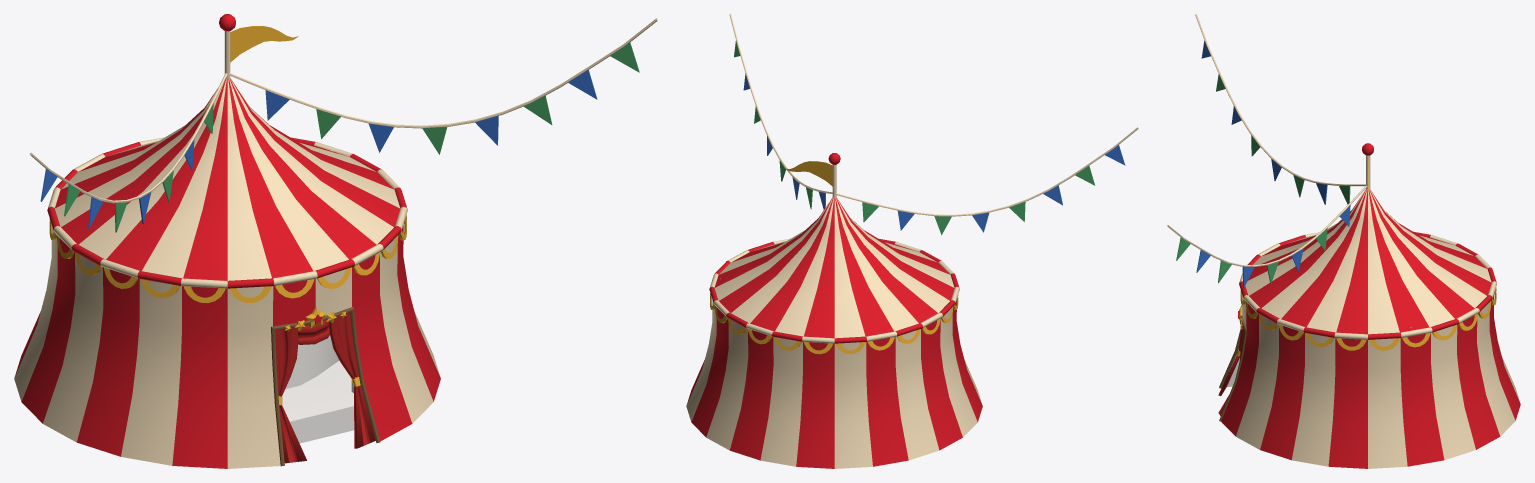
Rendered from Circus_Tent_00.FBX.
The picture shows the model from 3 angles, left to right: view 1: azimuth 30°, elevation 25°; view 2: azimuth 150°, elevation 25°; view 3: azimuth 270°, elevation 25°; orthographic projection. The views are drawn at different scales.
Visible parts, largest first — view 1: Circus_Tent_00, Circus_Tent_Garland_B_00, Circus_Tent_Garland_A_00; view 2: Circus_Tent_00, Circus_Tent_Garland_A_00, Circus_Tent_Garland_B_00; view 3: Circus_Tent_00, Circus_Tent_Garland_B_00, Circus_Tent_Garland_A_00.
Boxes of the visible parts, bbox=[...] form: Circus_Tent_00: bbox=[14, 14, 440, 468]; Circus_Tent_Garland_B_00: bbox=[229, 18, 657, 154]; Circus_Tent_Garland_A_00: bbox=[29, 73, 227, 232]; Circus_Tent_00: bbox=[686, 153, 982, 468]; Circus_Tent_Garland_A_00: bbox=[836, 127, 1138, 235]; Circus_Tent_Garland_B_00: bbox=[729, 14, 832, 209]; Circus_Tent_00: bbox=[1218, 143, 1520, 468]; Circus_Tent_Garland_B_00: bbox=[1167, 185, 1366, 287]; Circus_Tent_Garland_A_00: bbox=[1195, 14, 1365, 204].
Size of the model in its own units: 23.92 by 14.76 by 16.83.
